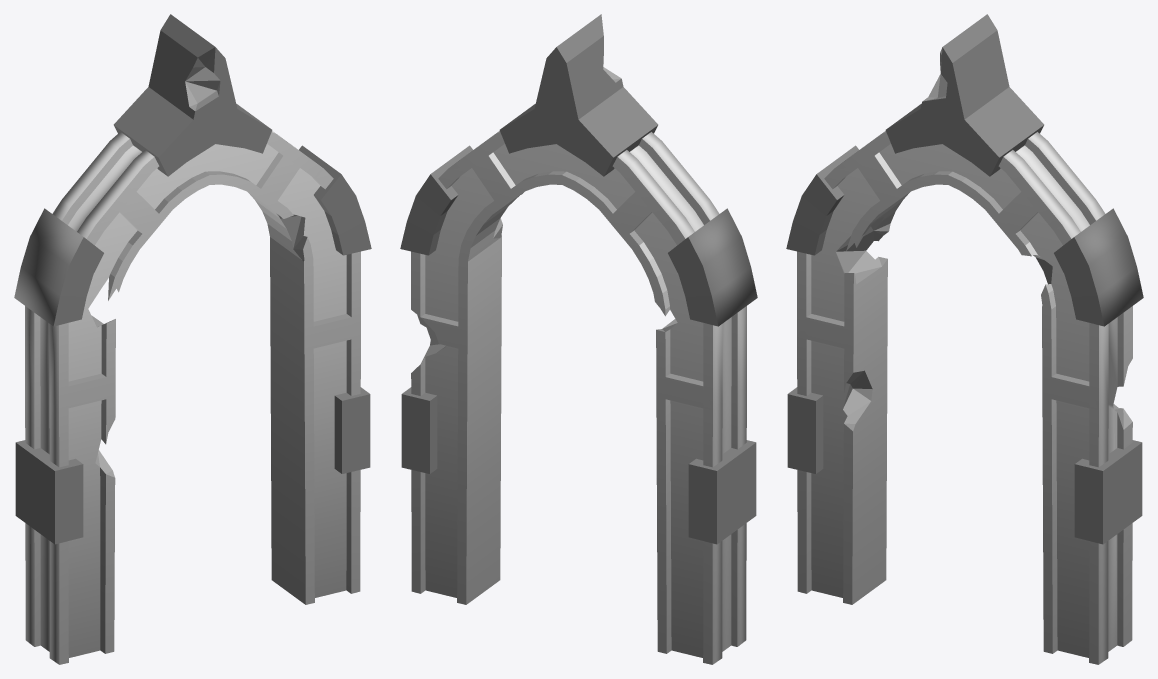
The model's file is rock_arch.fbx.
3 views of the same model, side by side, from view 1: azimuth 30°, elevation 25°; view 2: azimuth 150°, elevation 25°; view 3: azimuth 330°, elevation 25° (orthographic).
Parts seen in each view (by area): view 1: rock_arch; view 2: rock_arch; view 3: rock_arch.
Part boxes in pixels (x1,y1,x2,y2): rock_arch: [14, 14, 371, 664]; rock_arch: [400, 14, 757, 664]; rock_arch: [786, 14, 1143, 664].
Bounding box in the file's own units: 264 × 464 × 64.61.
